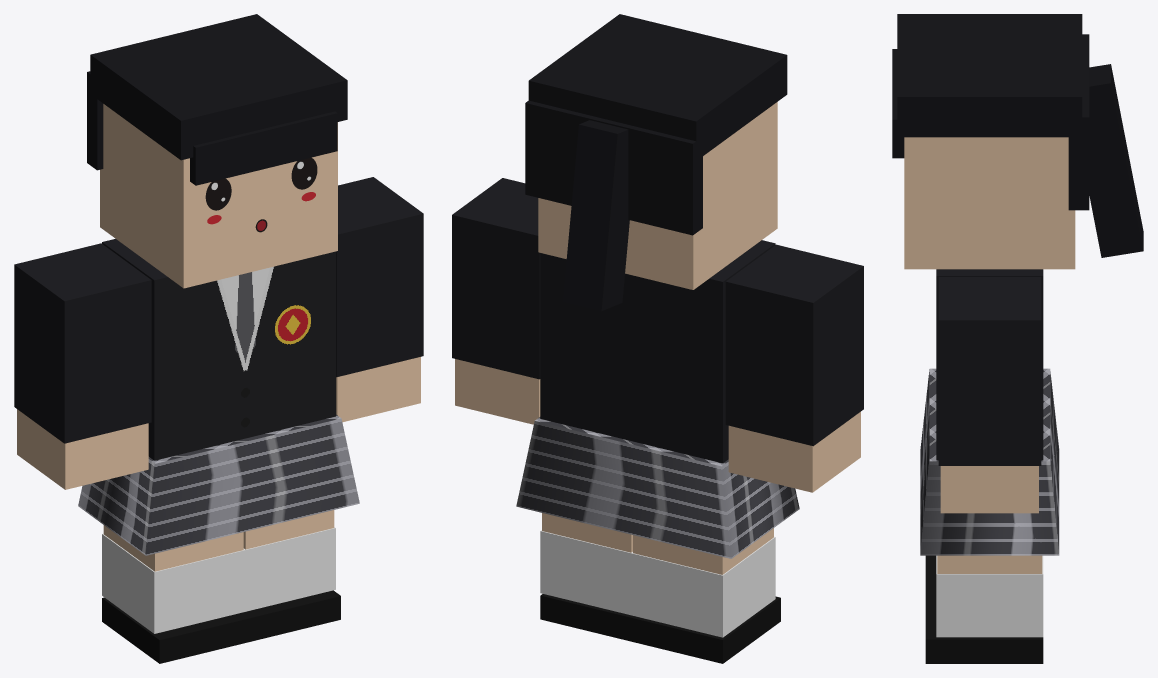
Rendered from ponytail_girl.glb.
3 views of the same model, side by side, from view 1: azimuth 30°, elevation 25°; view 2: azimuth 150°, elevation 25°; view 3: azimuth 270°, elevation 25° (orthographic). The views are drawn at different scales.
Visible parts, largest first — view 1: head, torso, arm_R, arm_L, leg_R, leg_L, face; view 2: head, torso, arm_R, arm_L, leg_R, leg_L; view 3: head, arm_L, leg_L, torso, leg_R.
Part boxes in pixels (x1,y1,x2,y2): head: (87,14,347,288); torso: (78,239,359,555); arm_R: (14,243,151,489); arm_L: (336,177,423,422); leg_R: (102,525,250,663); leg_L: (243,510,340,641); face: (205,157,317,232); head: (525,14,787,311); torso: (516,240,799,558); arm_R: (725,244,863,492); arm_L: (452,178,540,424); leg_R: (631,528,780,663); leg_L: (540,513,633,641); head: (892,14,1143,269); arm_L: (938,277,1041,513); leg_L: (925,555,1043,663); torso: (920,269,1059,555); leg_R: (925,555,936,594).
Size of the model in its own units: 0.99 by 1.45 by 0.5874.
Materials: 10 (3 with a texture image).
